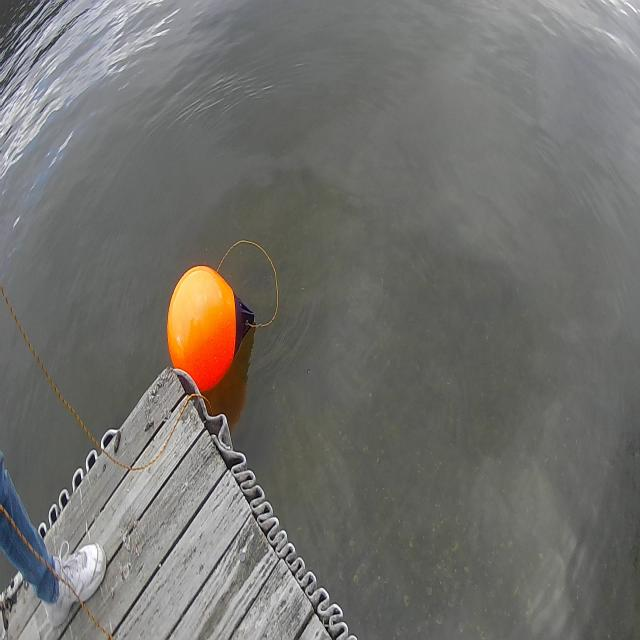Buoy: (164, 260, 238, 391)
